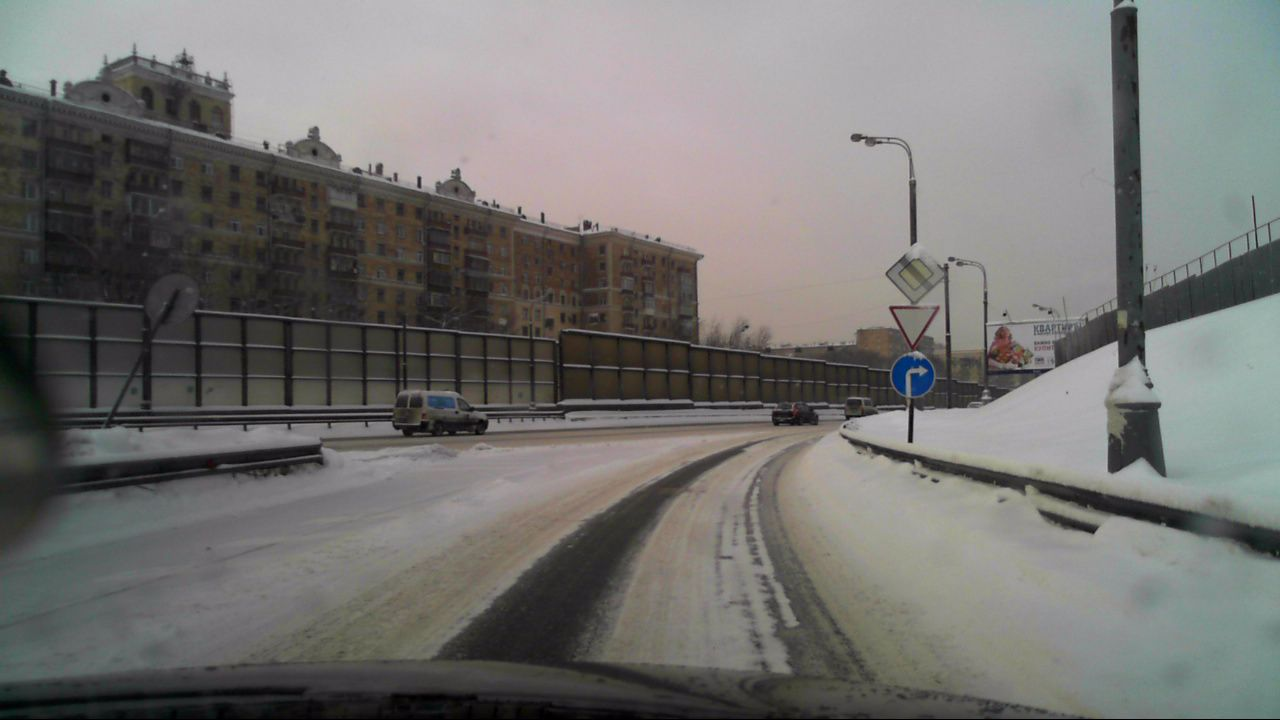main road: (885, 243, 947, 305)
